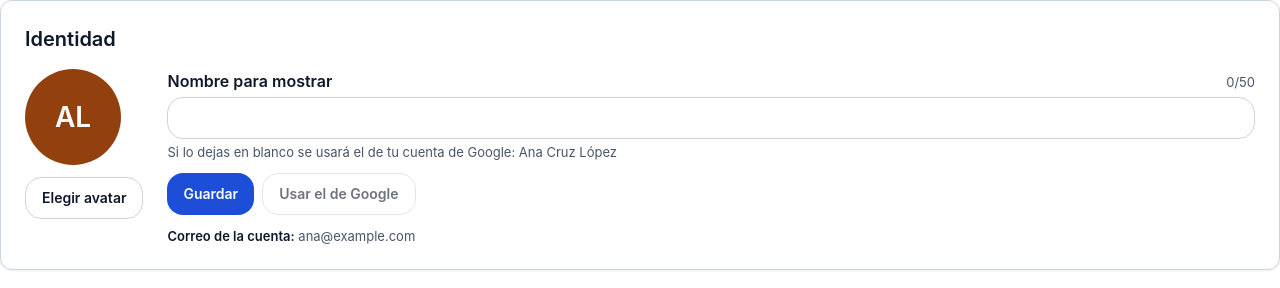
it: <IdentitySection> › el contador sube mientras se escribe y cuenta caracteres, no unidades
The width and height of the screenshot is (1280, 288).
Type "Ana 🌱" into the field labelled "Nombre para mostrar" at point(711, 118), box x1=168 y1=97 x2=1255 y2=139
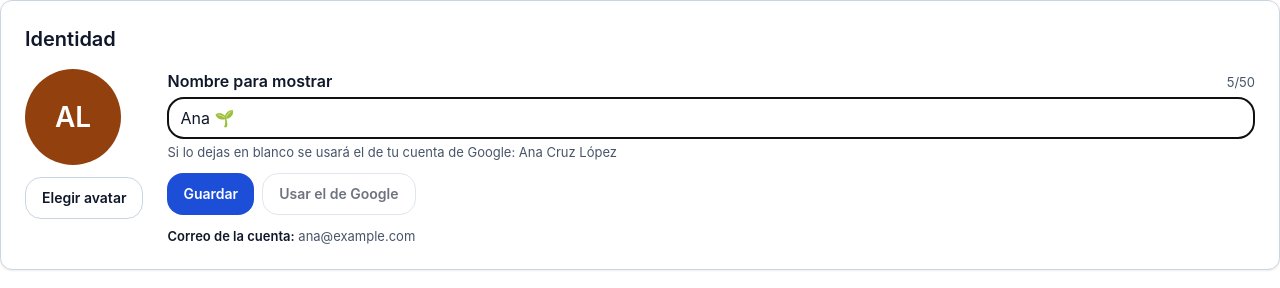
Check: the text "5/50" is shown, box x1=1227 y1=73 x2=1255 y2=91
